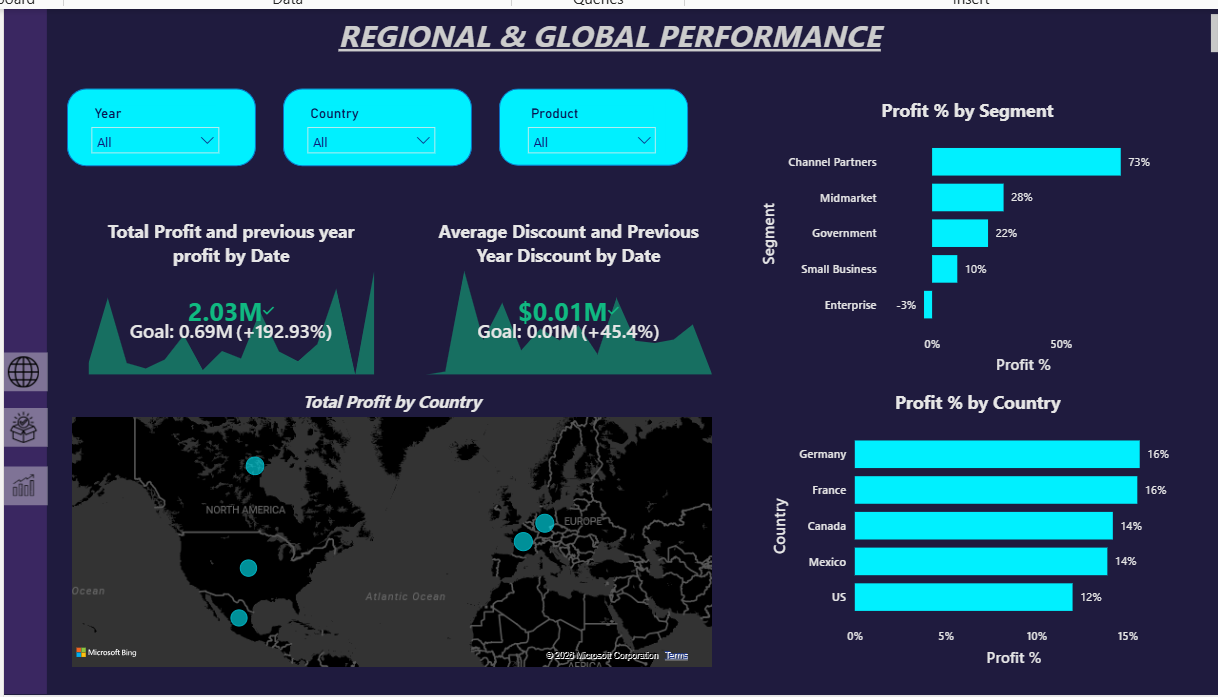

Layout of this report page (visuals, bound fields, positions):
{"tool":"powerbi","page":{"name":"Regional & Global Performance","canvas":[1280,720],"ordinal":1},"visuals":[{"type":"barChart","fields":{"Category":["Copy of Financial Sample xlsx -.Country"],"Y":["Table Measures.Profit %"]},"box":[801.7,400,441.7,295],"z":0},{"type":"actionButton","title":"Executive button","box":[0,480.4,45.7,41],"z":0,"group":"g5"},{"type":"shape","title":"SideBar","box":[0,0,45,719.6],"z":1000},{"type":"actionButton","title":"Products button","box":[0,419,45.7,41],"z":1000,"group":"g5"},{"type":"actionButton","title":"Global performance button","box":[0,360.7,45.7,41],"z":2000,"group":"g5"},{"type":"map","fields":{"Category":["Copy of Financial Sample xlsx -.Country"],"Size":["Table Measures.Total Profit"]},"box":[66.7,400,681.7,295],"z":2000},{"type":"textbox","box":[0,0,1280,51.4],"z":3000},{"type":"barChart","fields":{"Category":["Copy of Financial Sample xlsx -.Segment"],"Y":["Table Measures.Profit %"]},"box":[790,93.3,441.7,295],"z":4000},{"type":"kpi","fields":{"Goal":["Table Measures.previous year profit"],"Indicator":["Table Measures.Total Profit"],"TrendLine":["Copy of Financial Sample xlsx -.Date"]},"box":[83.3,220,310,168.3],"z":5000},{"type":"kpi","fields":{"Goal":["Table Measures.PRevious Year Discount"],"Indicator":["Table Measures.Average Discount"],"TrendLine":["Copy of Financial Sample xlsx -.Date"]},"box":[438.3,220,310,168.3],"z":6000},{"type":"group","id":"g1","title":"Group 1","box":[66.7,83.8,198.3,81.7],"z":7000,"group":"g4"},{"type":"shape","box":[66.7,83.8,198.3,81.7],"z":7000,"group":"g1"},{"type":"shape","box":[293.6,83.8,198.3,81.7],"z":7000,"group":"g2"},{"type":"shape","box":[520.4,83.8,198.7,81.1],"z":7000,"group":"g3"},{"type":"group","id":"g2","title":"Group 1","box":[293.6,83.8,198.3,81.7],"z":8000,"group":"g4"},{"type":"slicer","fields":{"Values":["Copy of Financial Sample xlsx -. Product "]},"box":[541.5,96.2,154.1,55.4],"z":8000,"group":"g3"},{"type":"slicer","fields":{"Values":["Copy of Financial Sample xlsx -.Date.Variation.Date Hierarchy.Year"]},"box":[82.6,96.8,153.8,55.4],"z":8000,"group":"g1"},{"type":"slicer","fields":{"Values":["Copy of Financial Sample xlsx -.Country"]},"box":[309.5,96.8,153.8,55.4],"z":8000,"group":"g2"},{"type":"group","id":"g3","title":"Group 1","box":[520.4,83.8,198.7,81.1],"z":9000,"group":"g4"},{"type":"group","id":"g4","title":"Slicers_Reg&global","box":[66.7,83.8,652.4,81.7],"z":9001},{"type":"group","id":"g5","title":"Navigator Buttons","box":[0,360.7,45.7,160.7],"z":9002}]}

Visuals, with their boxes on the page's 1280x720 design canvas (x1, y1, x2, y2). These are canvas units, not pixel positions in the 1218x697 screenshot, which may show the page scaled, cropped or inside an application window:
barChart - Copy of Financial Sample xlsx -.Country x Table Measures.Profit %: <bbox>802, 400, 1243, 695</bbox>
"Executive button" actionButton: <bbox>0, 480, 46, 521</bbox>
"SideBar" shape: <bbox>0, 0, 45, 720</bbox>
"Products button" actionButton: <bbox>0, 419, 46, 460</bbox>
"Global performance button" actionButton: <bbox>0, 361, 46, 402</bbox>
map - Copy of Financial Sample xlsx -.Country x Table Measures.Total Profit: <bbox>67, 400, 748, 695</bbox>
textbox: <bbox>0, 0, 1280, 51</bbox>
barChart - Copy of Financial Sample xlsx -.Segment x Table Measures.Profit %: <bbox>790, 93, 1232, 388</bbox>
kpi - Table Measures.previous year profit x Table Measures.Total Profit: <bbox>83, 220, 393, 388</bbox>
kpi - Table Measures.PRevious Year Discount x Table Measures.Average Discount: <bbox>438, 220, 748, 388</bbox>
"Group 1" group: <bbox>67, 84, 265, 166</bbox>
shape: <bbox>67, 84, 265, 166</bbox>
shape: <bbox>294, 84, 492, 166</bbox>
shape: <bbox>520, 84, 719, 165</bbox>
"Group 1" group: <bbox>294, 84, 492, 166</bbox>
slicer - Copy of Financial Sample xlsx -. Product : <bbox>542, 96, 696, 152</bbox>
slicer - Copy of Financial Sample xlsx -.Date.Variation.Date Hierarchy.Year: <bbox>83, 97, 236, 152</bbox>
slicer - Copy of Financial Sample xlsx -.Country: <bbox>310, 97, 463, 152</bbox>
"Group 1" group: <bbox>520, 84, 719, 165</bbox>
"Slicers_Reg&global" group: <bbox>67, 84, 719, 166</bbox>
"Navigator Buttons" group: <bbox>0, 361, 46, 521</bbox>
